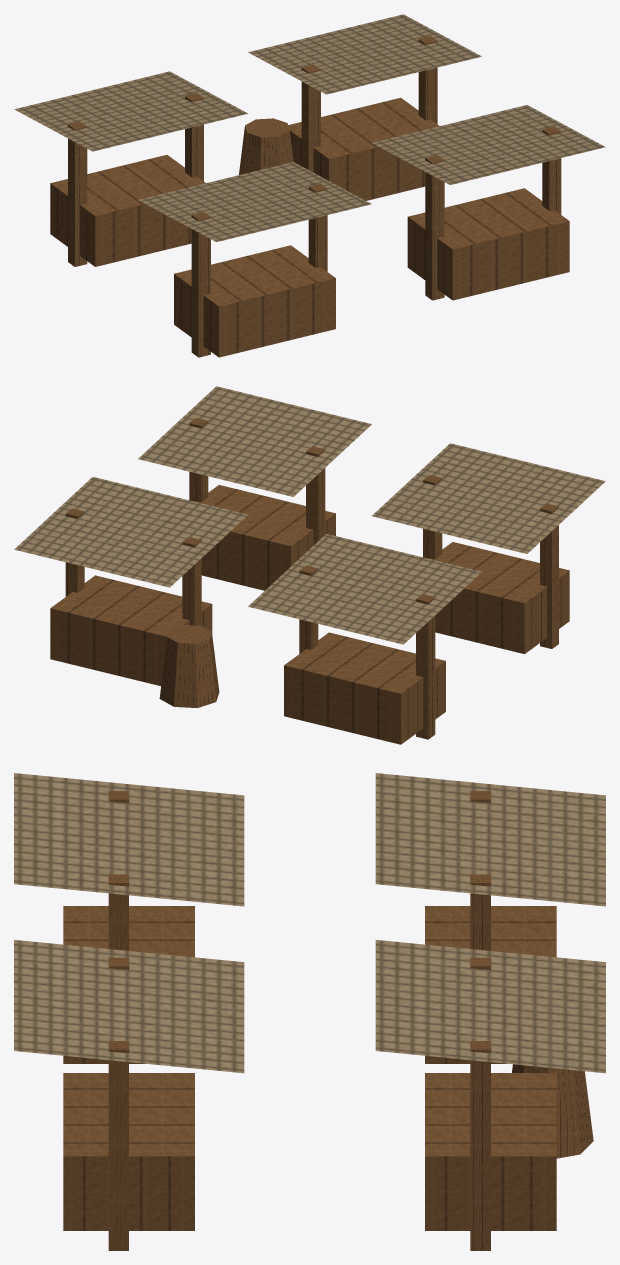
File: domestic-MARKET-3-lod1.glb
The picture shows the model from 3 angles, top to bottom: view 1: azimuth 30°, elevation 25°; view 2: azimuth 150°, elevation 25°; view 3: azimuth 270°, elevation 25°; orthographic projection. The views are drawn at different scales.
Size of the model in its own units: 0.8 by 0.28 by 0.72.
1 material, 1 textured.
